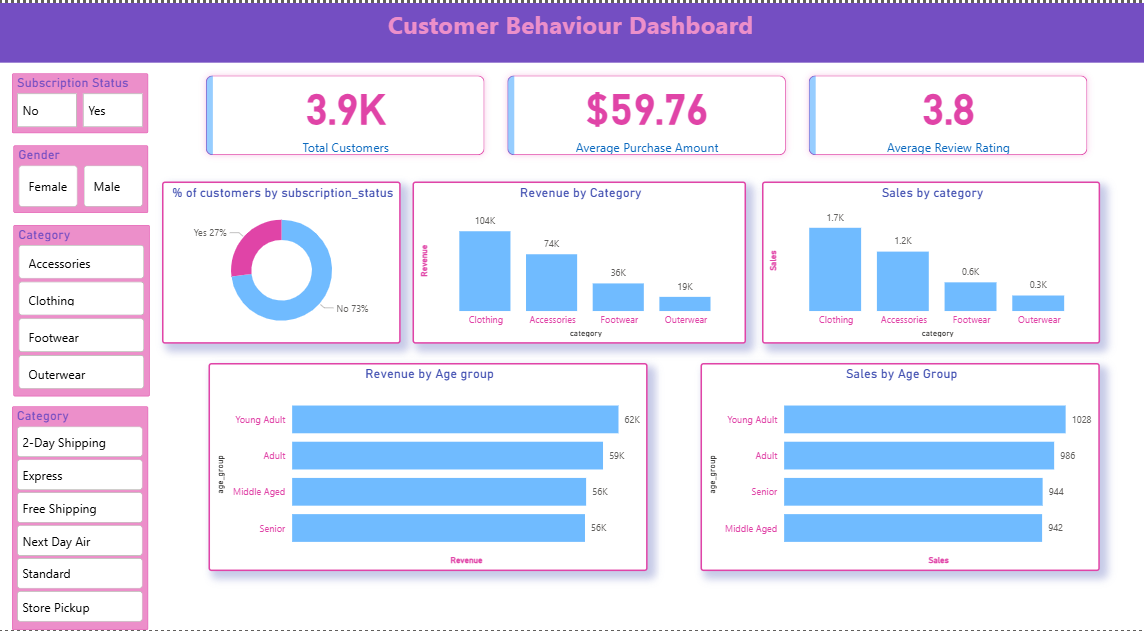

This screenshot's page, from the dashboard's own definition file:
{"tool":"powerbi","page":{"name":"Page 1","canvas":[1500,820],"ordinal":0},"visuals":[{"type":"cardVisual","fields":{"Data":["customer_behaviour customer.Total Customers","customer_behaviour customer.Average Purchase Amount","customer_behaviour customer.Average Review Rating"]},"box":[256,78,1186,136],"z":0},{"type":"textbox","box":[0,0,1500,78],"z":2000},{"type":"donutChart","title":"% of customers by subscription_status","fields":{"Category":["customer_behaviour customer.subscription_status"],"Y":["CountNonNull(customer_behaviour customer.customer_id)"]},"box":[216,234,312,212],"z":3000},{"type":"clusteredColumnChart","title":"Revenue by Category","fields":{"Y":["Sum(customer_behaviour customer.purchase_amount)"],"Category":["customer_behaviour customer.category"]},"box":[544,234,436,212],"z":4000},{"type":"clusteredColumnChart","title":"Sales by category","fields":{"Category":["customer_behaviour customer.category"],"Y":["CountNonNull(customer_behaviour customer.customer_id)"]},"box":[1000,234,442,212],"z":5000},{"type":"advancedSlicerVisual","title":"Subscription Status","fields":{"Values":["customer_behaviour customer.subscription_status"]},"box":[20,92,178,78],"z":7000},{"type":"advancedSlicerVisual","title":"Gender","fields":{"Values":["customer_behaviour customer.gender"]},"box":[22,186,176,88],"z":8000},{"type":"advancedSlicerVisual","title":"Category","fields":{"Values":["customer_behaviour customer.category"]},"box":[22,290,178,224],"z":9000},{"type":"advancedSlicerVisual","title":"Category","fields":{"Values":["customer_behaviour customer.shipping_type"]},"box":[20,528,178,292],"z":10000},{"type":"clusteredBarChart","title":"Revenue by Age group","fields":{"Category":["customer_behaviour customer.age_group"],"Y":["Sum(customer_behaviour customer.purchase_amount)"]},"box":[276,470,574,272],"z":11000},{"type":"clusteredBarChart","title":"Sales by Age Group","fields":{"Category":["customer_behaviour customer.age_group"],"Y":["CountNonNull(customer_behaviour customer.customer_id)"]},"box":[920,470,522,272],"z":12000}]}

Visuals, with their boxes in screenshot pixels (x1, y1, x2, y2), scaled from the page's 1500x820 canvas onto the 1144x631 screenshot:
cardVisual - customer_behaviour customer.Total Customers x customer_behaviour customer.Average Purchase Amount: <bbox>195, 60, 1100, 165</bbox>
textbox: <bbox>0, 0, 1143, 60</bbox>
"% of customers by subscription_status" donutChart: <bbox>165, 180, 403, 343</bbox>
"Revenue by Category" clusteredColumnChart: <bbox>415, 180, 747, 343</bbox>
"Sales by category" clusteredColumnChart: <bbox>763, 180, 1100, 343</bbox>
"Subscription Status" advancedSlicerVisual: <bbox>15, 71, 151, 131</bbox>
"Gender" advancedSlicerVisual: <bbox>17, 143, 151, 211</bbox>
"Category" advancedSlicerVisual: <bbox>17, 223, 153, 396</bbox>
"Category" advancedSlicerVisual: <bbox>15, 406, 151, 630</bbox>
"Revenue by Age group" clusteredBarChart: <bbox>210, 362, 648, 571</bbox>
"Sales by Age Group" clusteredBarChart: <bbox>702, 362, 1100, 571</bbox>
